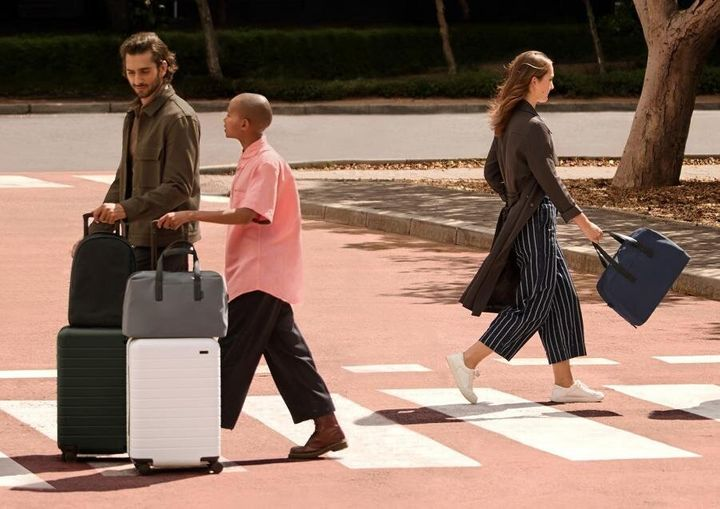backpack: (65, 237, 130, 324)
luggage: (127, 341, 230, 477), (53, 325, 126, 458)
shoulder bag: (584, 223, 693, 324), (126, 250, 234, 333)
